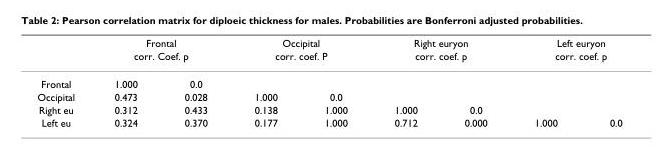table: (36, 36, 621, 128)
table column: (510, 36, 582, 128), (160, 36, 230, 128), (230, 36, 300, 128), (300, 36, 370, 128), (370, 36, 440, 128), (440, 36, 510, 128), (93, 36, 160, 128), (36, 36, 93, 128), (582, 36, 621, 128)
table column header: (36, 36, 621, 89)
table row: (36, 48, 621, 69), (36, 69, 621, 89), (36, 89, 621, 102), (36, 102, 621, 115), (36, 115, 621, 128), (36, 36, 621, 48)
table spanning cell: (230, 36, 370, 69), (370, 36, 510, 69), (93, 36, 230, 69), (510, 36, 621, 69), (36, 36, 93, 89)
